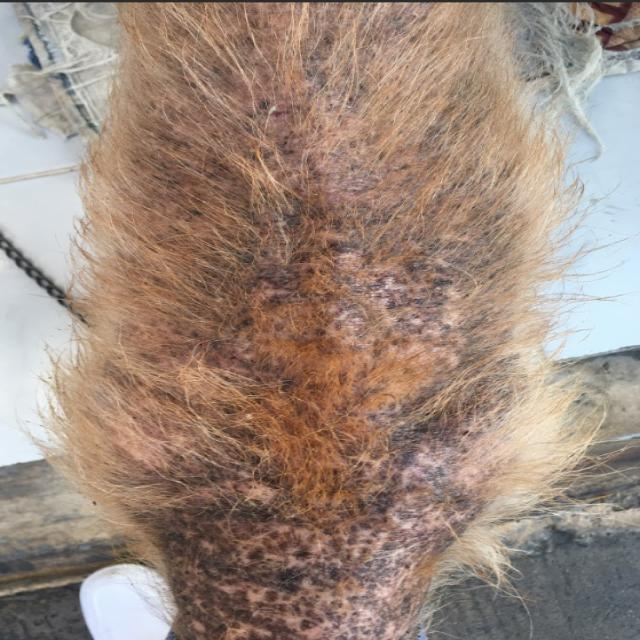demodicosis: (246, 210, 494, 362), (186, 498, 432, 636), (371, 404, 489, 482)
